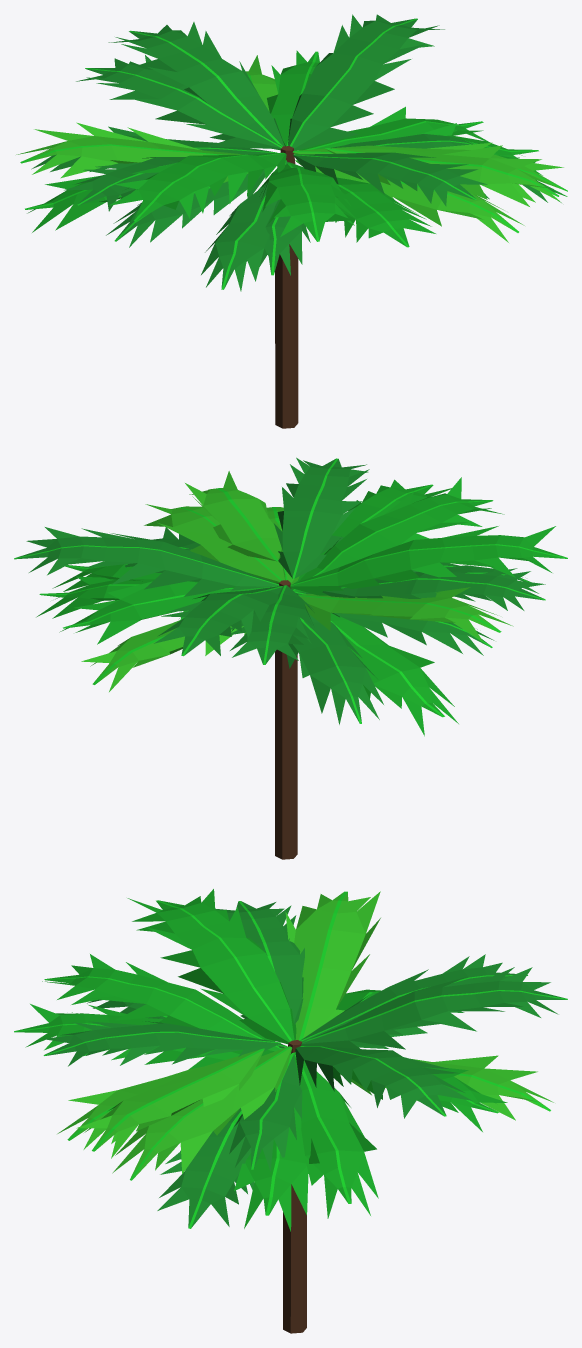
File: Tree1_bw.fbx
3 views of the same model, one above another, from view 1: azimuth 30°, elevation 25°; view 2: azimuth 150°, elevation 25°; view 3: azimuth 270°, elevation 25° (orthographic). The views are drawn at different scales.
Parts seen in each view (by area): view 1: tree1; view 2: tree1; view 3: tree1.
Part boxes in pixels (x1,y1,x2,y2): tree1: (16, 14, 567, 428); tree1: (14, 457, 567, 859); tree1: (14, 889, 567, 1333).
Bounding box in the file's own units: 7924 × 5028 × 7568.
